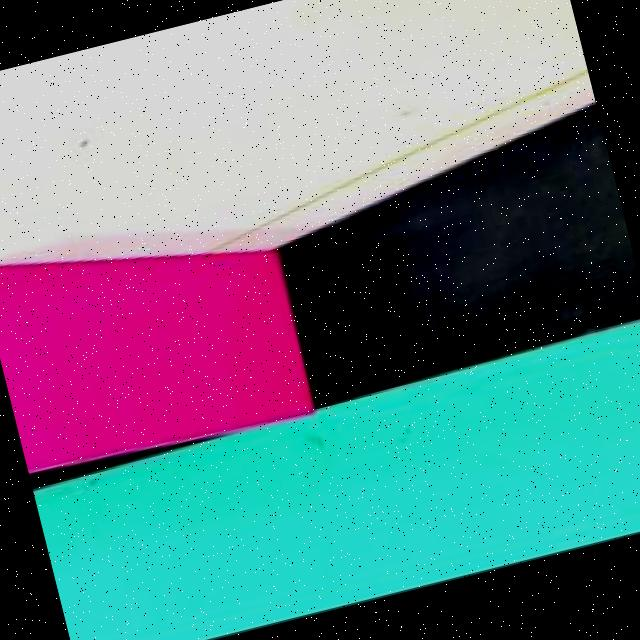xparking: (0, 203, 298, 458)
